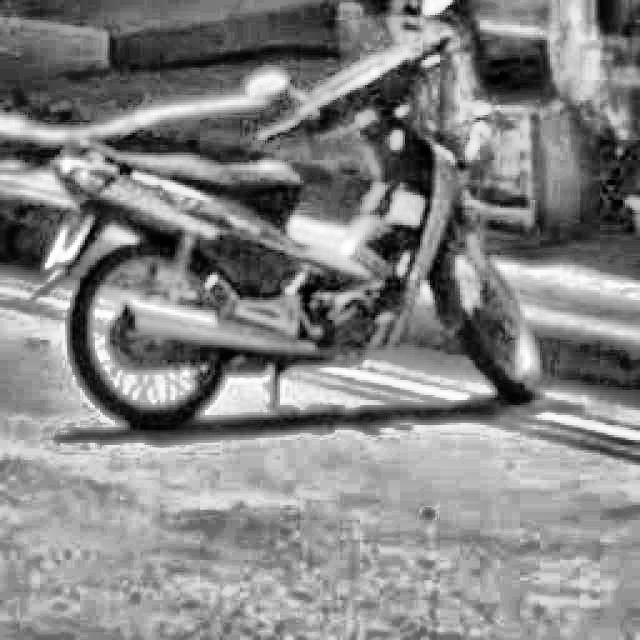motorcycle: (31, 1, 576, 434)
